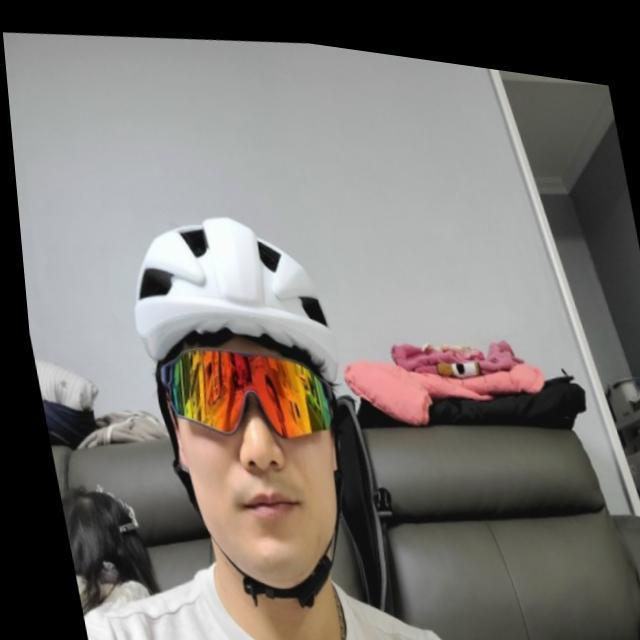Helmet: (130, 213, 353, 584)
